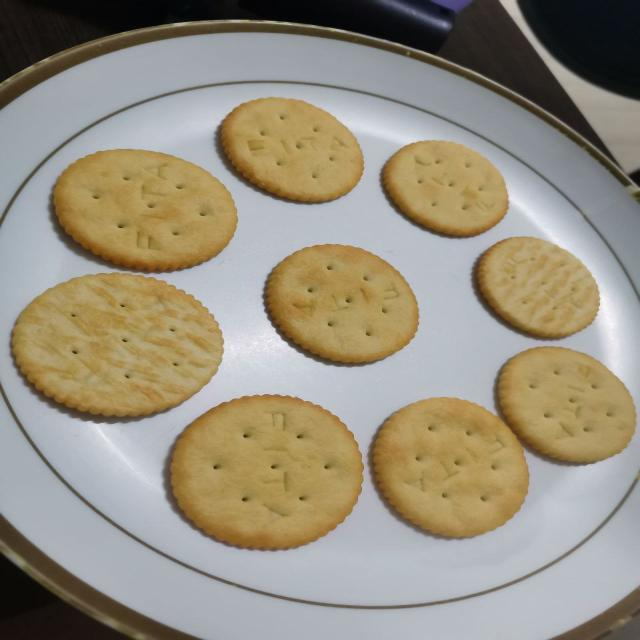intact biscuit: (9, 271, 224, 418), (168, 393, 364, 551), (51, 146, 238, 272), (370, 395, 529, 539), (261, 242, 420, 364), (494, 344, 636, 464), (218, 95, 365, 204), (472, 235, 601, 339), (380, 138, 510, 238)
